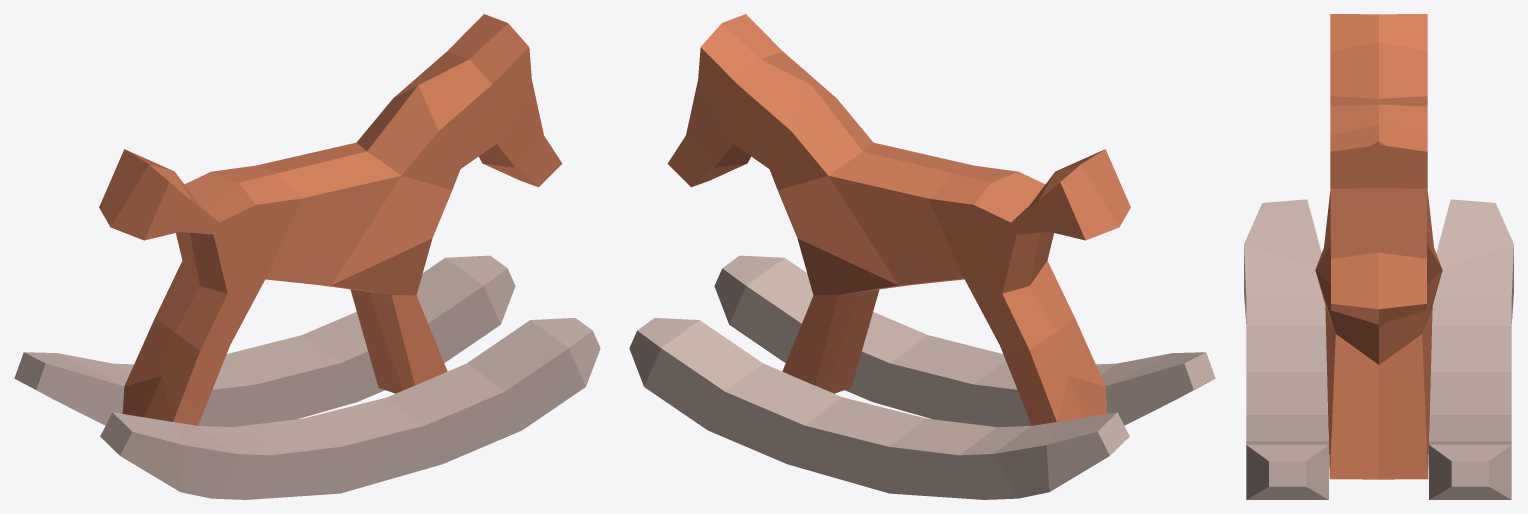
Rendered from horse.fbx.
The picture shows the model from 3 angles, left to right: view 1: azimuth 30°, elevation 25°; view 2: azimuth 150°, elevation 25°; view 3: azimuth 270°, elevation 25°; orthographic projection. The views are drawn at different scales.
Parts seen in each view (by area): view 1: Cube; view 2: Cube; view 3: Cube.
Part boxes in pixels (bbox=[...]): Cube: bbox=[14, 14, 600, 499]; Cube: bbox=[629, 14, 1215, 499]; Cube: bbox=[1244, 14, 1513, 499].
Size of the model in its own units: 376 by 275 by 170.
Materials: 1 (1 with a texture image).
